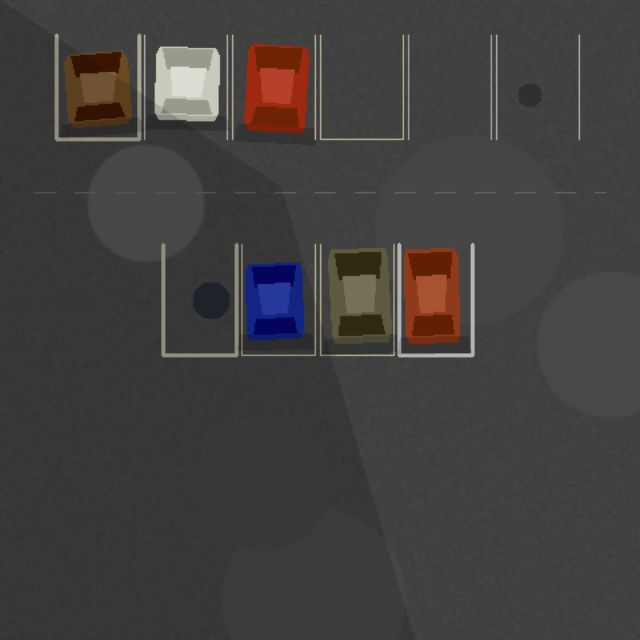space-empty: (320, 35, 403, 139), (408, 35, 491, 139), (496, 35, 579, 139), (163, 244, 236, 355)
space-occupied: (56, 35, 139, 139), (144, 35, 227, 139), (232, 35, 315, 139), (241, 244, 315, 355), (320, 244, 393, 355), (399, 244, 472, 355)
